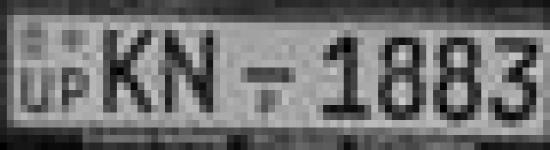-: (233, 61, 302, 89)
1: (311, 28, 376, 125)
3: (488, 29, 544, 132)
8: (429, 26, 487, 128), (376, 26, 429, 125)
K: (98, 23, 160, 118)
N: (158, 25, 223, 120)
P: (56, 61, 93, 117)
U: (15, 63, 57, 118)
